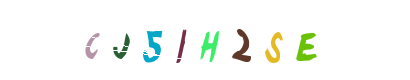1: (164, 0, 244, 80)
2: (176, 0, 256, 80)
5: (156, 0, 236, 80)
C: (88, 0, 168, 80)
E: (265, 0, 345, 80)
H: (170, 0, 250, 80)
J: (113, 0, 193, 80)
S: (235, 0, 315, 80)
